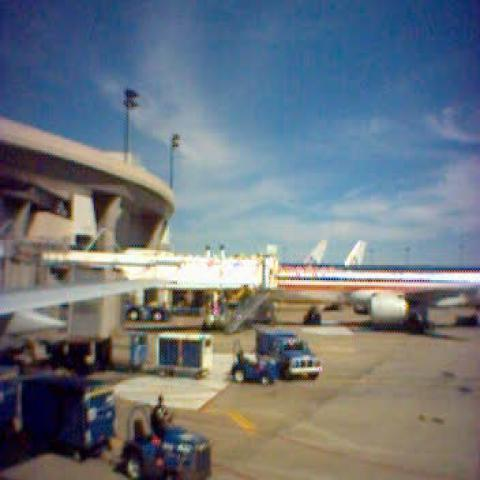car: (120, 392, 213, 479)
truck: (2, 371, 112, 460), (120, 394, 214, 478), (253, 326, 322, 381), (84, 385, 116, 433), (227, 352, 276, 383)
